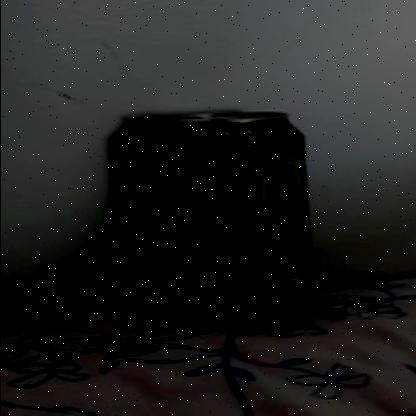Can: (143, 112, 316, 330)
